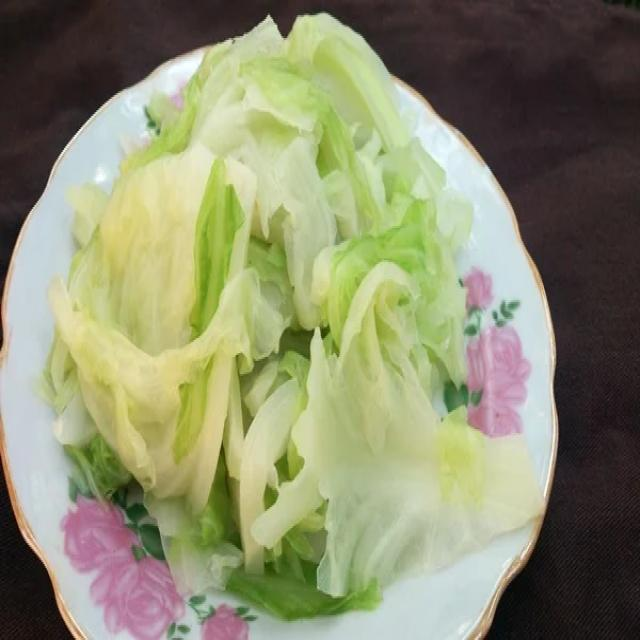bap cai luoc: (44, 15, 540, 613)
